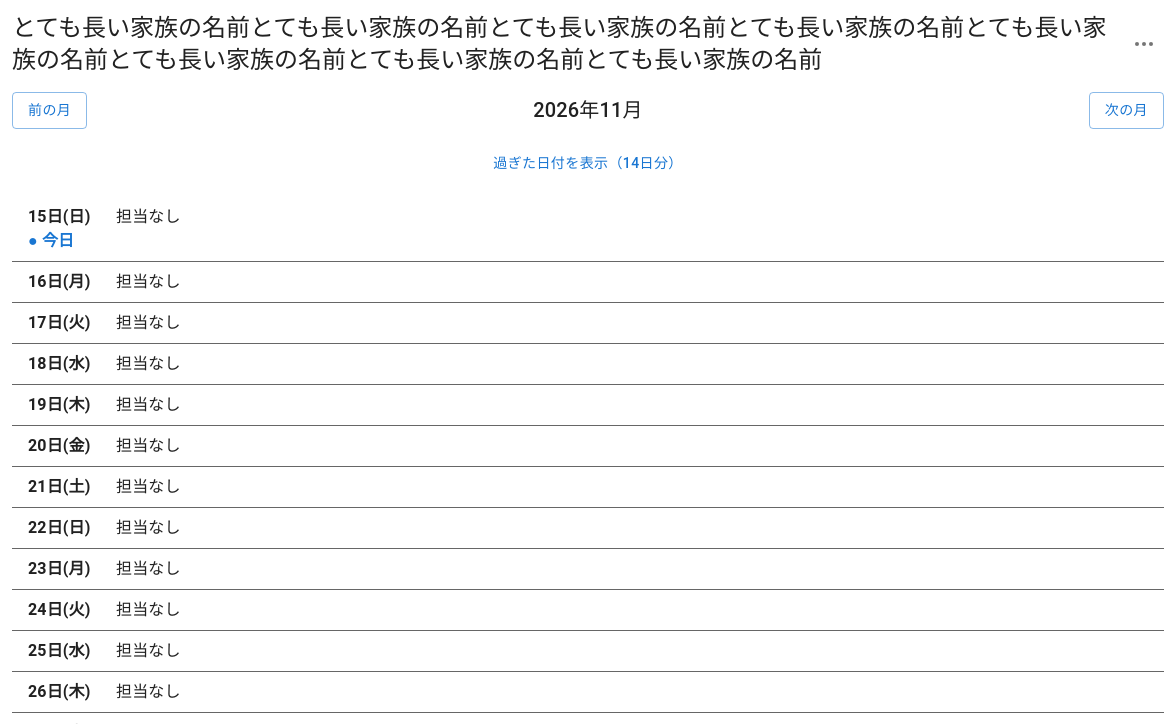
Test: Given 家族のカレンダー / When 3点メニューを操作 / Then 必要な入口を使える › FR2: 設定項目は既存callbackを1回呼ぶ
Click the button named "家族のメニュー" at (1144, 44), box [1124,24,1164,64]
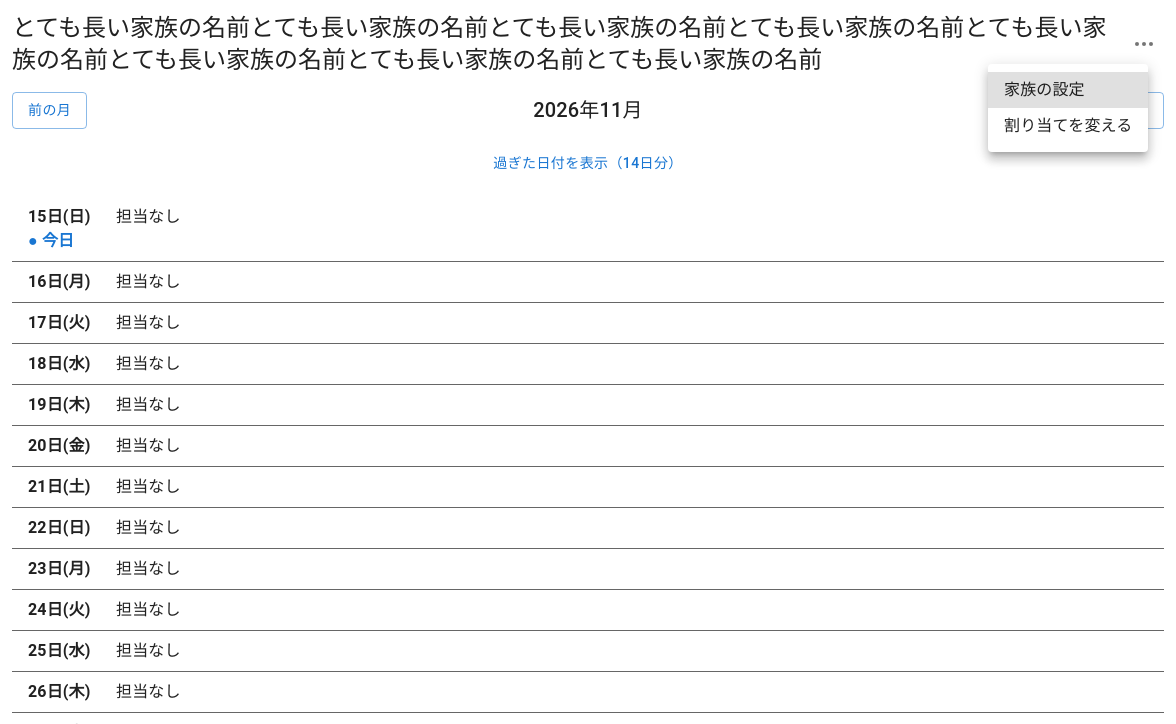
Click the menu item "家族の設定" at (1068, 90), box [988,72,1148,108]
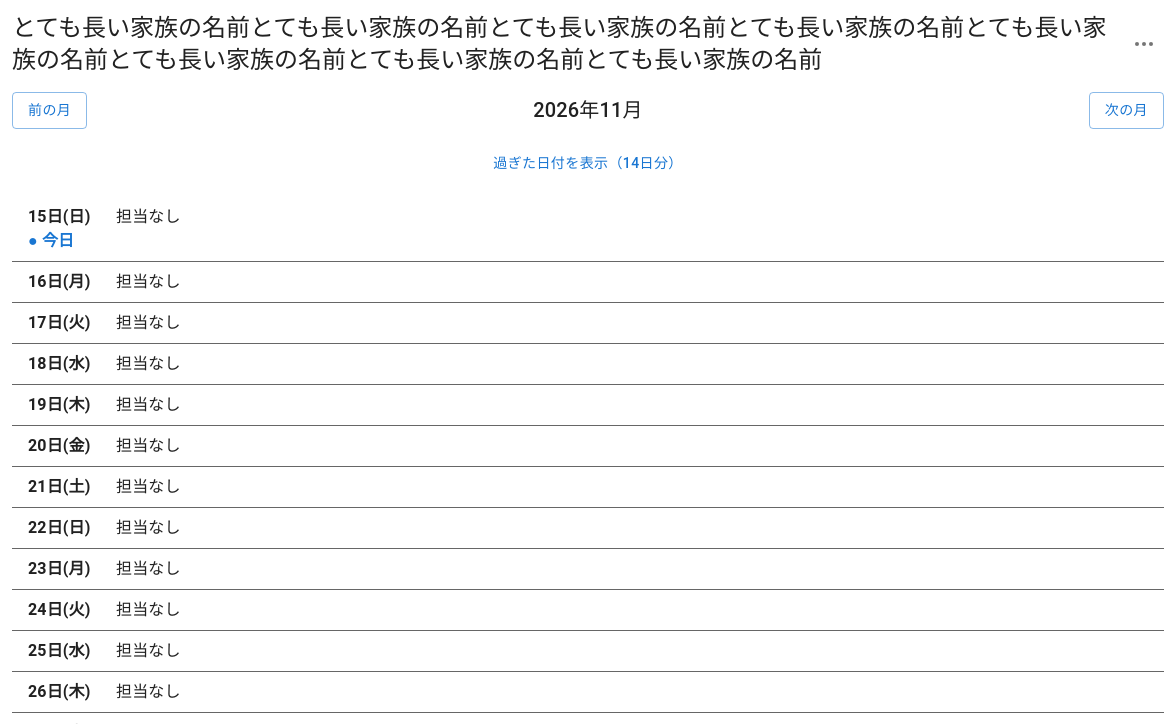
Check: the menu is gone
